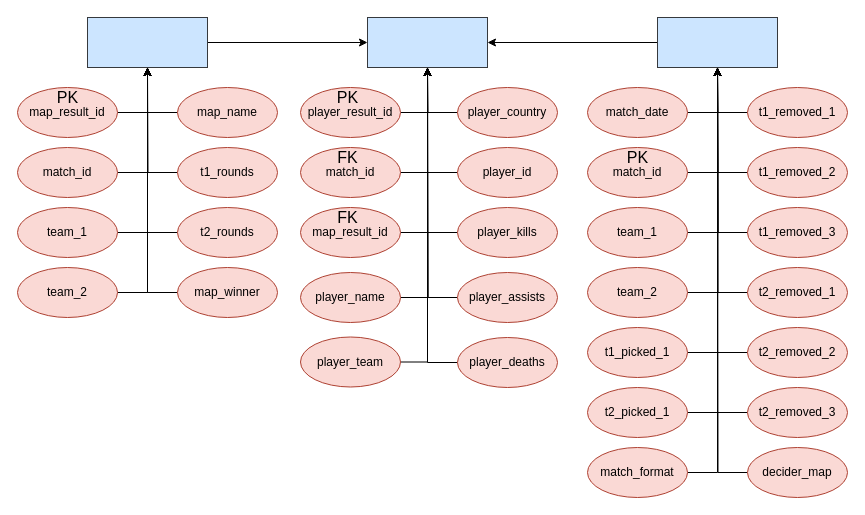
Image size: 865x515. Some labels were removed from this diagram. Here are the shapes that lost their labels. From the top down, the centre of each, then its label:
the point at 147,42: Maps_results
the point at 427,42: Players_results
the point at 717,42: Match_info
